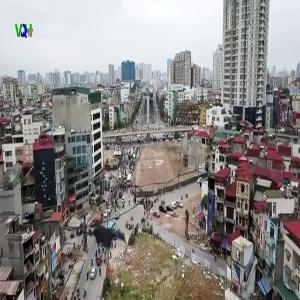drone: (62, 187, 142, 267)
